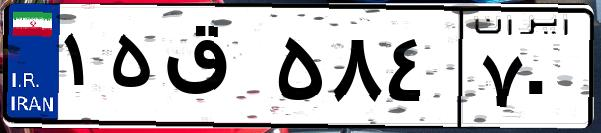0: (525, 38, 570, 115)
1: (57, 26, 110, 100)
4: (385, 28, 445, 110)
5: (270, 28, 330, 110), (110, 28, 158, 98)
7: (475, 38, 525, 113)
8: (330, 28, 385, 110)
ق: (158, 20, 270, 120)
